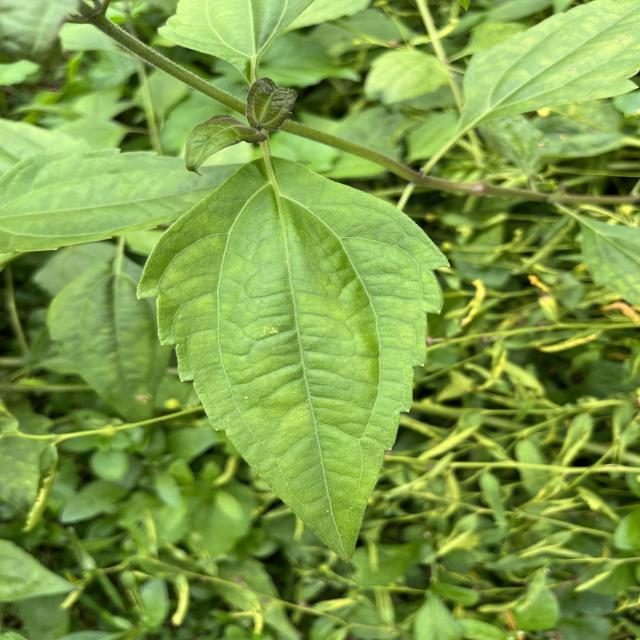Chromolaena odorata: (130, 143, 456, 570)
